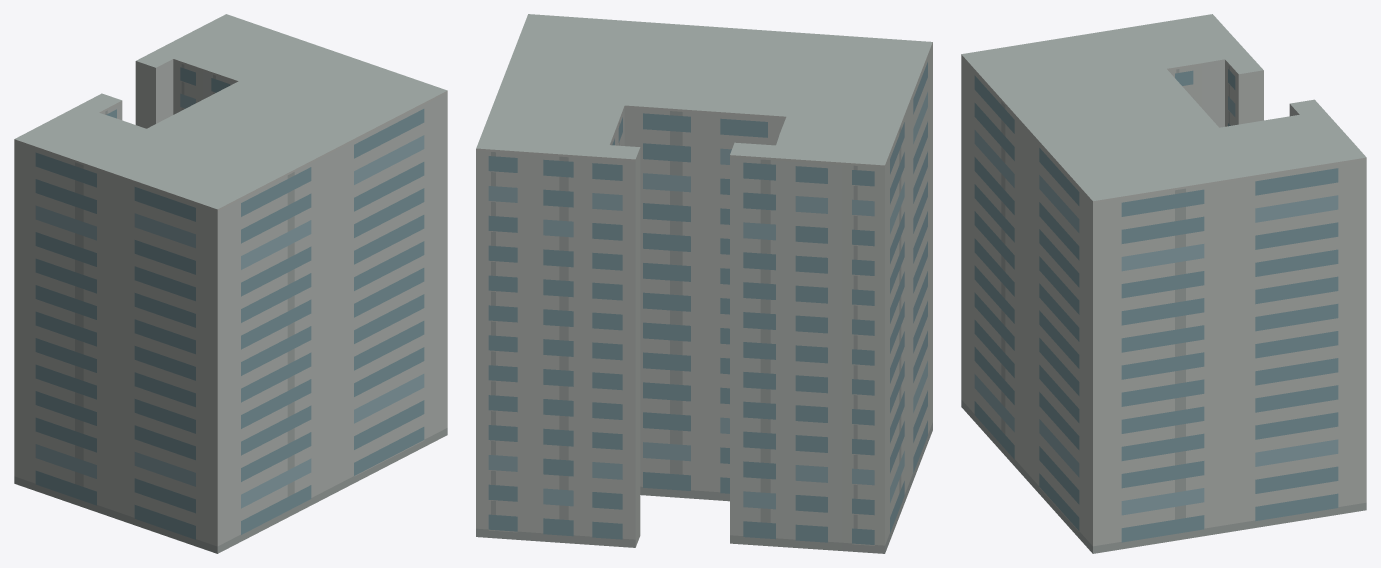
The model's file is residential-3021dcd1-e939-45f1-b341-b63297100292.glb.
3 renders of one model, left to right at view 1: azimuth 30°, elevation 25°; view 2: azimuth 150°, elevation 25°; view 3: azimuth 270°, elevation 25°, orthographic. The views are drawn at different scales.
Visible parts, largest first — view 1: residential-3021dcd1-e939-45f1-b341-b63297100292.tmp; view 2: residential-3021dcd1-e939-45f1-b341-b63297100292.tmp; view 3: residential-3021dcd1-e939-45f1-b341-b63297100292.tmp.
Part boxes in pixels (x1,y1,x2,y2): residential-3021dcd1-e939-45f1-b341-b63297100292.tmp: (14, 14, 447, 553); residential-3021dcd1-e939-45f1-b341-b63297100292.tmp: (476, 14, 932, 553); residential-3021dcd1-e939-45f1-b341-b63297100292.tmp: (961, 14, 1366, 553).
Bounding box in the file's own units: 45.56 × 40 × 41.69.
